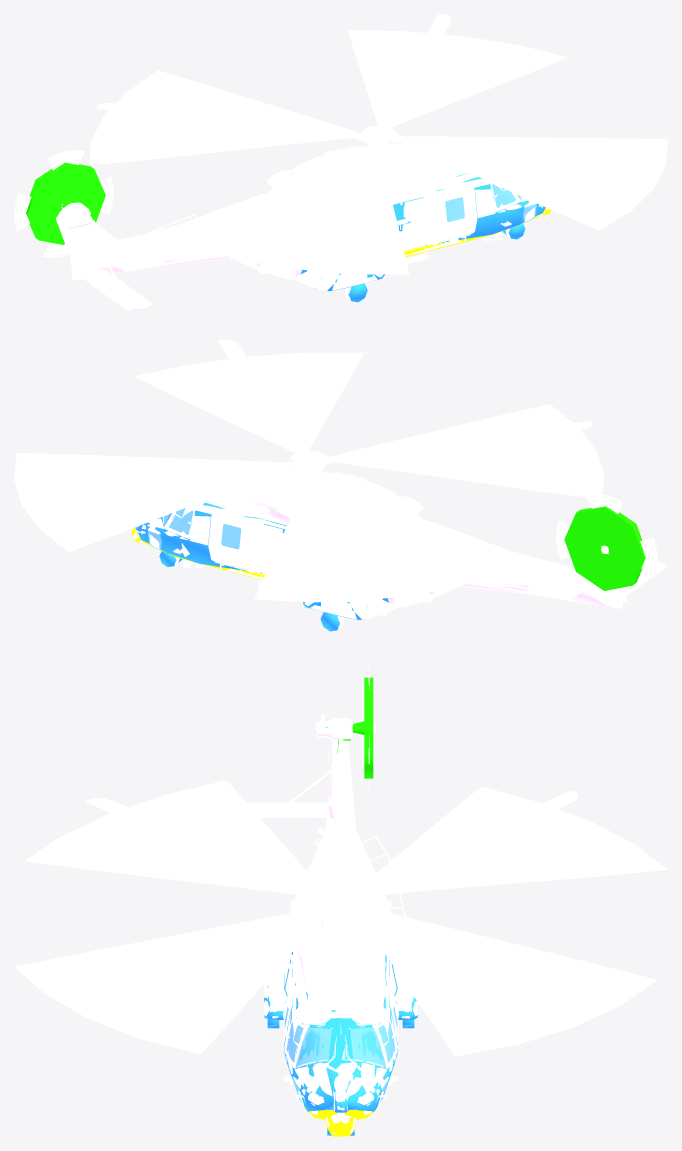
Rendered from MRH90.gltf.
The picture shows the model from 3 angles, top to bottom: view 1: azimuth 30°, elevation 25°; view 2: azimuth 150°, elevation 25°; view 3: azimuth 270°, elevation 25°; orthographic projection. The views are drawn at different scales.
Visible parts, largest first — view 1: Heli3, Heli3_3, Heli3_1, mrh90_rearengine_col_45, mrh90_col_1, mrh90_col, Heli3_4, Heli3_2, mrh90_col_3; view 2: Heli3, Heli3_1, Heli3_3, mrh90_rearengine_col_45, mrh90_col_1, mrh90_col, Heli3_2, mrh90_col_3, Heli3_4; view 3: Heli3, Heli3_3, Heli3_1, mrh90_col_1, mrh90_col, Heli3_2, mrh90_col_3, mrh90_rearengine_col_45, mrh90_col_2.
Part boxes in pixels (<box>): Heli3: <box>14,30,667,274</box>; Heli3_3: <box>14,14,660,310</box>; Heli3_1: <box>58,143,548,280</box>; mrh90_rearengine_col_45: <box>26,162,105,244</box>; mrh90_col_1: <box>68,143,465,310</box>; mrh90_col: <box>301,173,545,302</box>; Heli3_4: <box>397,197,427,250</box>; Heli3_2: <box>445,183,536,222</box>; mrh90_col_3: <box>445,184,536,222</box>; Heli3: <box>14,352,657,603</box>; Heli3_1: <box>133,469,623,608</box>; Heli3_3: <box>27,339,667,629</box>; mrh90_rearengine_col_45: <box>564,506,645,590</box>; mrh90_col_1: <box>215,469,619,609</box>; mrh90_col: <box>135,503,388,631</box>; Heli3_2: <box>148,506,240,549</box>; mrh90_col_3: <box>147,508,240,549</box>; Heli3_4: <box>259,524,283,573</box>; Heli3: <box>14,679,667,1056</box>; Heli3_3: <box>85,666,596,1119</box>; Heli3_1: <box>283,739,398,1134</box>; mrh90_col_1: <box>259,725,384,1010</box>; mrh90_col: <box>264,952,417,1135</box>; Heli3_2: <box>285,1007,396,1105</box>; mrh90_col_3: <box>284,1006,397,1101</box>; mrh90_rearengine_col_45: <box>326,677,373,778</box>; mrh90_col_2: <box>301,1102,380,1136</box>.
Bounding box in the file's own units: 19.26 × 5.65 × 15.51.
